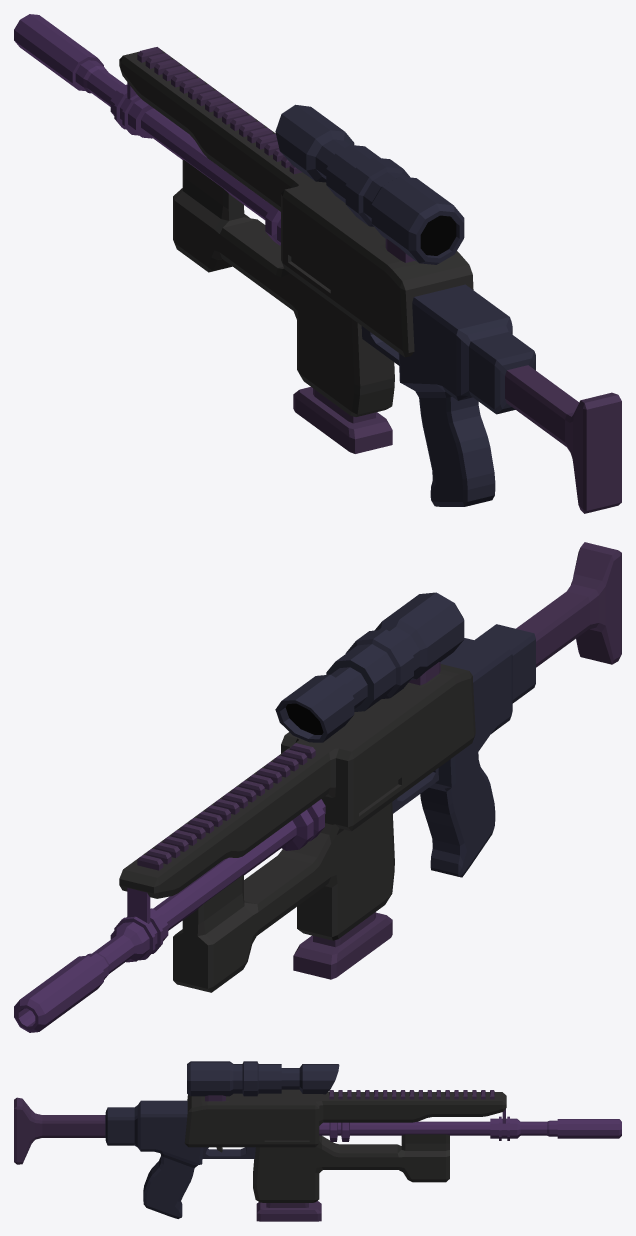
The model's file is scene_GQMj6yYtyn.glb.
3 renders of one model, top to bottom at view 1: azimuth 30°, elevation 25°; view 2: azimuth 150°, elevation 25°; view 3: azimuth 270°, elevation 25°, orthographic. The views are drawn at different scales.
Visible parts, largest first — view 1: Rifle; view 2: Rifle; view 3: Rifle.
Boxes of the visible parts, box(x1,y1,x2,y2) form: Rifle: box(14, 14, 621, 513); Rifle: box(14, 542, 621, 1032); Rifle: box(14, 1061, 621, 1221).
Bounding box in the file's own units: 0.6303 × 2.47 × 8.85.
